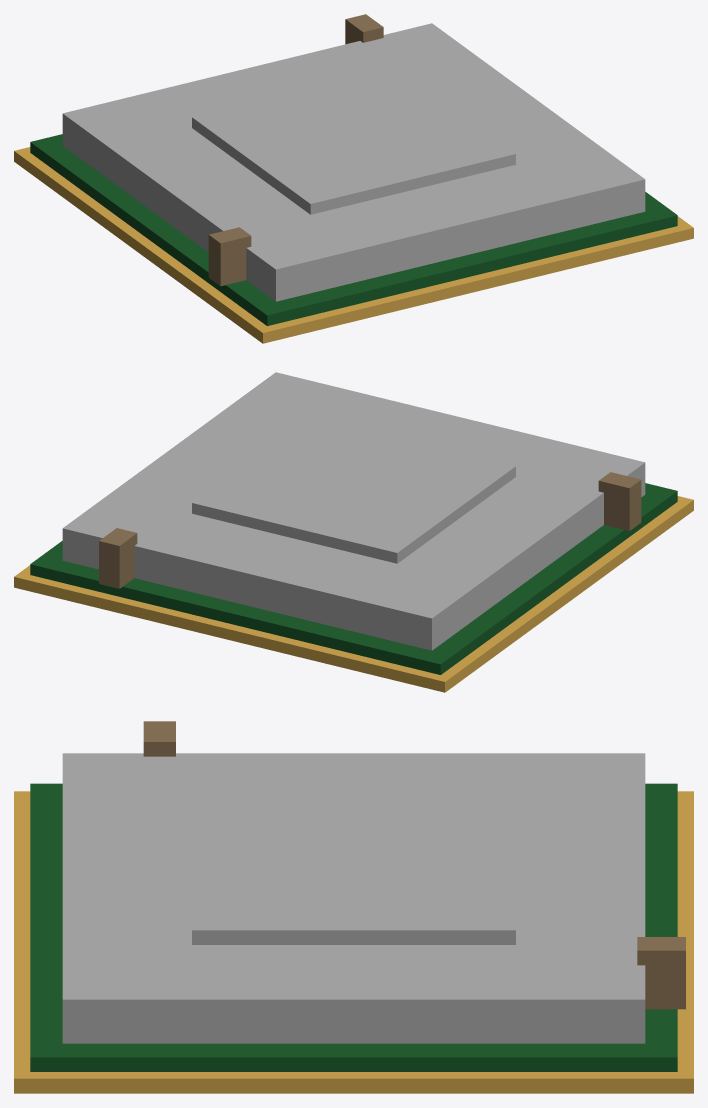
Rendered from cpu.glb.
3 renders of one model, top to bottom at view 1: azimuth 30°, elevation 25°; view 2: azimuth 150°, elevation 25°; view 3: azimuth 270°, elevation 25°, orthographic. The views are drawn at different scales.
Visible parts, largest first — view 1: Mesh_IHS, Mesh_IHS_Center, Mesh_Substrate, Mesh_Edge_F, Mesh_Edge_L, Mesh_Notch_1, Mesh_Notch_2; view 2: Mesh_IHS, Mesh_IHS_Center, Mesh_Substrate, Mesh_Edge_B, Mesh_Edge_L, Mesh_Notch_1, Mesh_Notch_2; view 3: Mesh_IHS, Mesh_IHS_Center, Mesh_Substrate, Mesh_Edge_R, Mesh_Edge_F, Mesh_Edge_B, Mesh_Notch_2, Mesh_Notch_1.
Part boxes in pixels (left/top/right/bottom): Mesh_IHS: left=62, top=23, right=645, bottom=301; Mesh_IHS_Center: left=192, top=67, right=515, bottom=214; Mesh_Substrate: left=30, top=134, right=677, bottom=325; Mesh_Edge_F: left=257, top=223, right=693, bottom=343; Mesh_Edge_L: left=20, top=153, right=266, bottom=338; Mesh_Notch_1: left=208, top=227, right=251, bottom=286; Mesh_Notch_2: left=345, top=14, right=383, bottom=44; Mesh_IHS: left=62, top=372, right=645, bottom=650; Mesh_IHS_Center: left=192, top=416, right=515, bottom=563; Mesh_Substrate: left=30, top=483, right=677, bottom=674; Mesh_Edge_B: left=14, top=572, right=450, bottom=692; Mesh_Edge_L: left=441, top=502, right=687, bottom=687; Mesh_Notch_1: left=598, top=472, right=641, bottom=530; Mesh_Notch_2: left=99, top=528, right=137, bottom=588; Mesh_IHS: left=62, top=753, right=645, bottom=1043; Mesh_IHS_Center: left=192, top=793, right=515, bottom=944; Mesh_Substrate: left=30, top=783, right=677, bottom=1071; Mesh_Edge_R: left=30, top=1072, right=677, bottom=1093; Mesh_Edge_F: left=14, top=791, right=30, bottom=1093; Mesh_Edge_B: left=677, top=791, right=693, bottom=1093; Mesh_Notch_2: left=637, top=937, right=685, bottom=1009; Mesh_Notch_1: left=143, top=721, right=175, bottom=756.
Size of the model in its own units: 0.042 by 0.00675 by 0.042.
